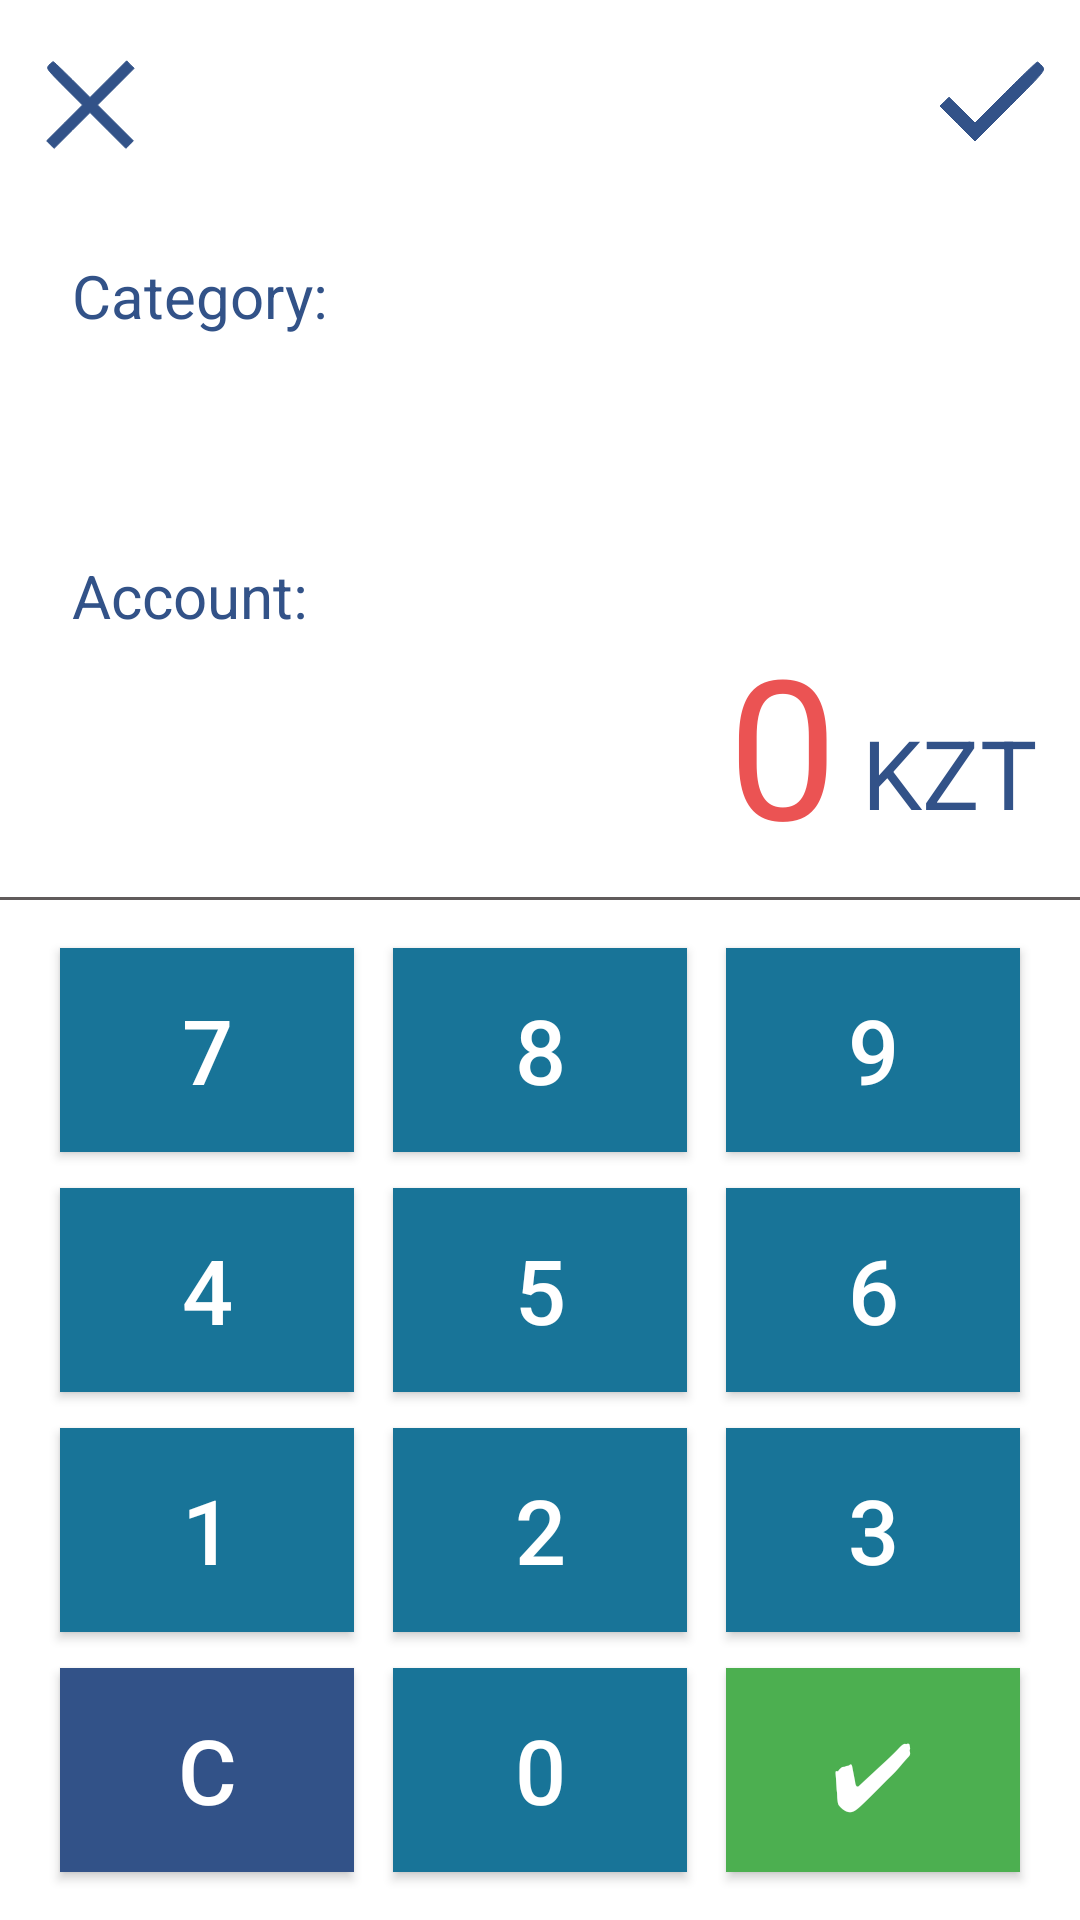

Icon bounding boxes for this 1080 x 1920 phone screenshot, format (x1, y1, x2, y2):
close: (46, 60, 135, 149)
done: (940, 61, 1044, 141)
